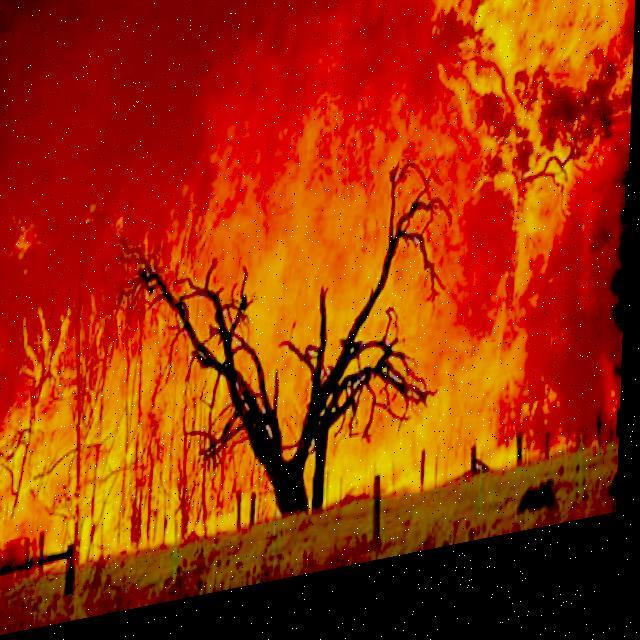Fire: (0, 0, 628, 575)
